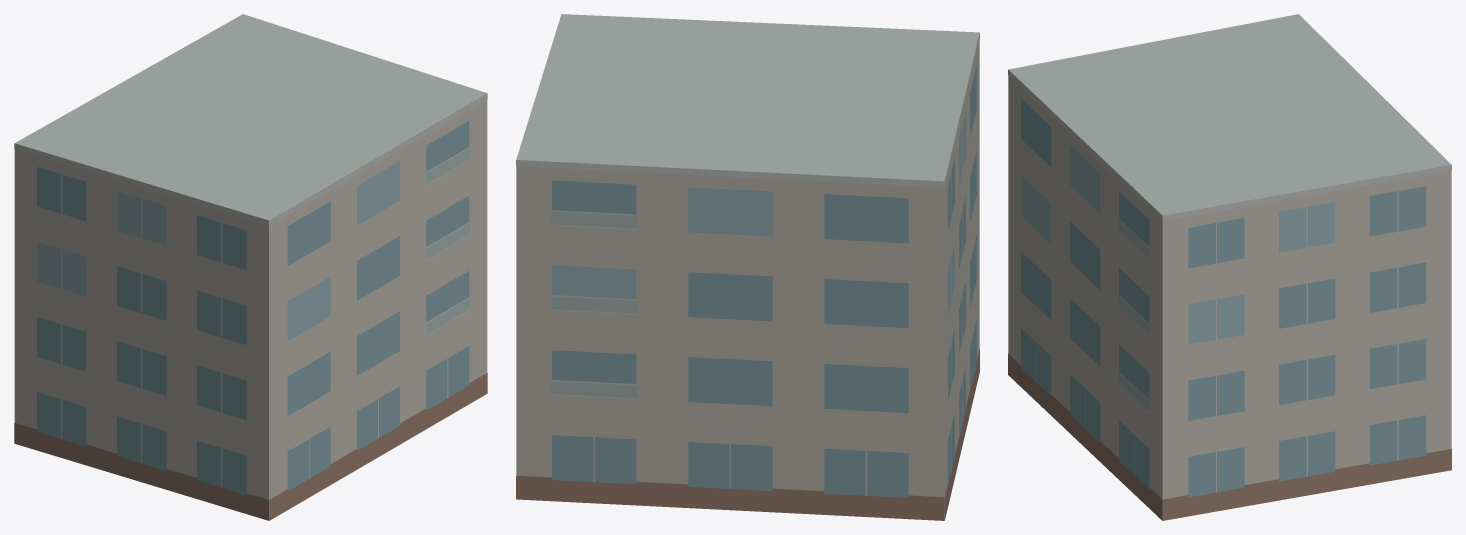
Rendered from survey-upis-32739180.glb.
3 renders of one model, left to right at view 1: azimuth 30°, elevation 25°; view 2: azimuth 150°, elevation 25°; view 3: azimuth 270°, elevation 25°, orthographic. The views are drawn at different scales.
Parts seen in each view (by area): view 1: survey-upis-32739180.tmp; view 2: survey-upis-32739180.tmp; view 3: survey-upis-32739180.tmp.
Boxes of the visible parts, x1,y1,x2,y2 form: survey-upis-32739180.tmp: [14, 14, 487, 520]; survey-upis-32739180.tmp: [516, 14, 979, 520]; survey-upis-32739180.tmp: [1008, 14, 1451, 520].
Bounding box in the file's own units: 18.26 × 12.9 × 16.99.
